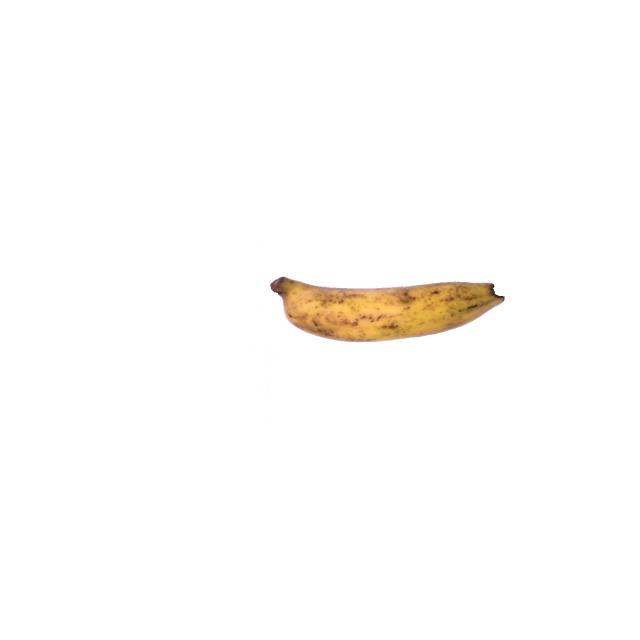banana: (266, 274, 508, 346)
